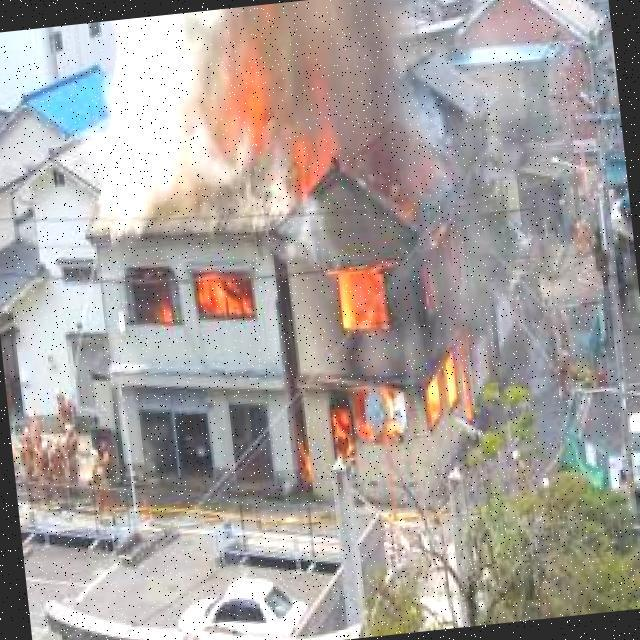Fire: (268, 214, 478, 496), (204, 37, 342, 199), (147, 269, 252, 329)
